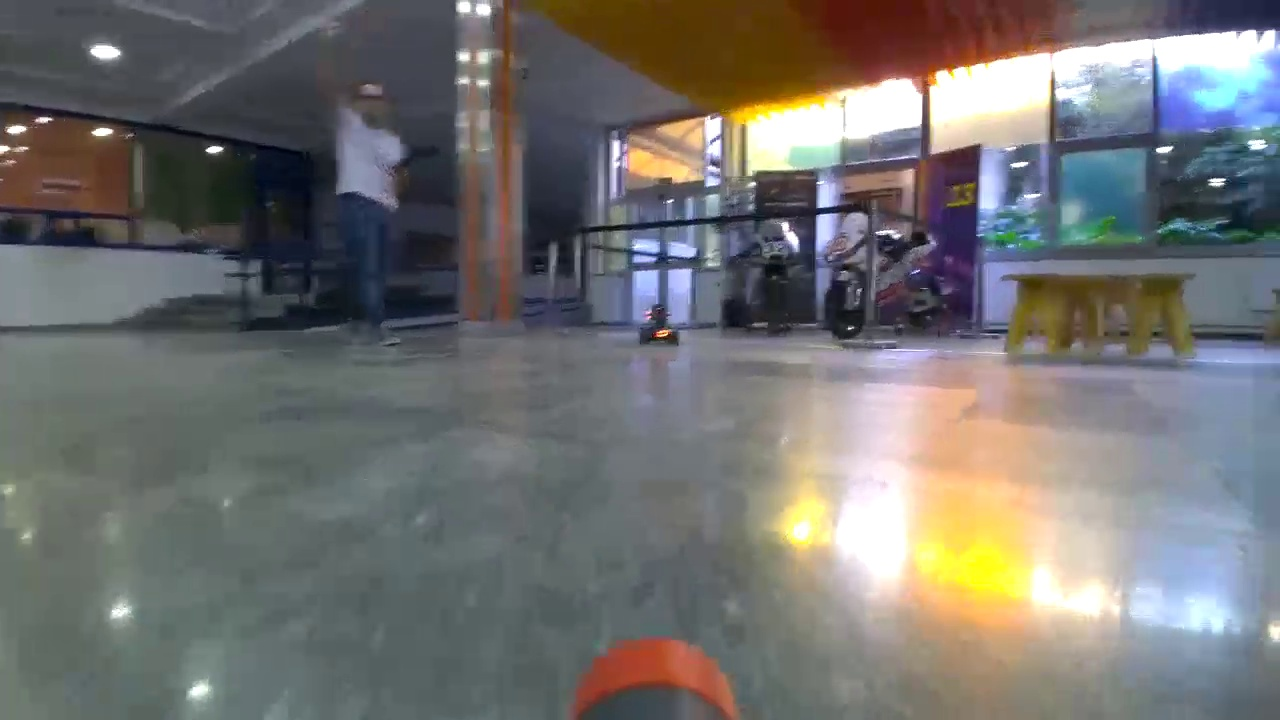robot: (640, 304, 679, 346)
